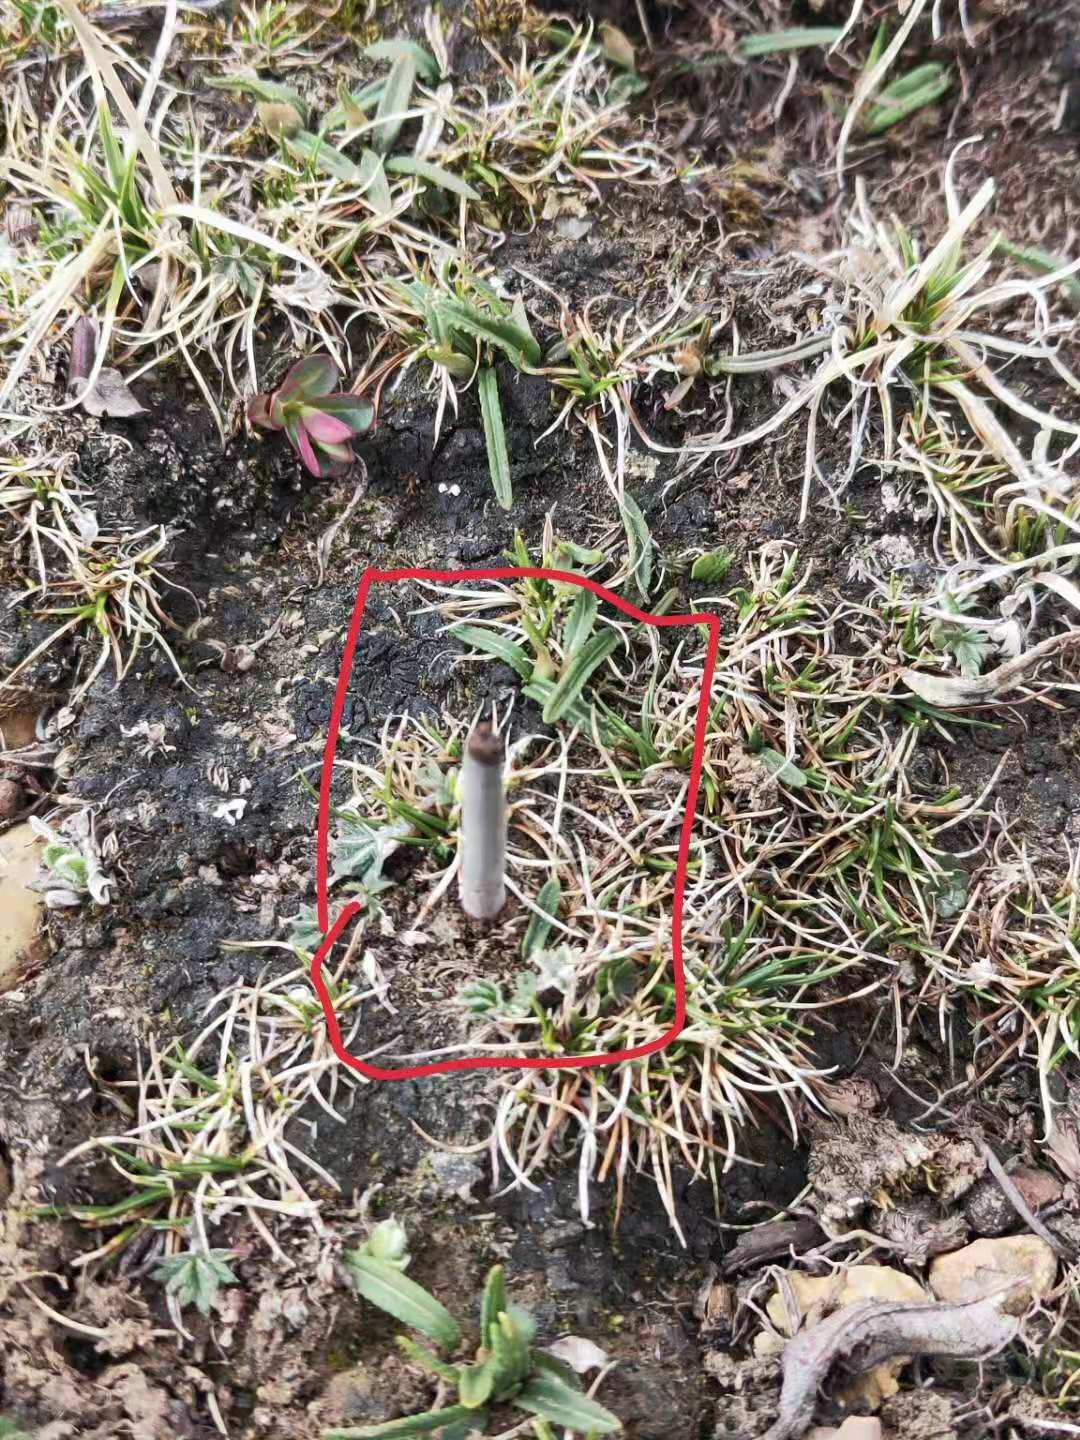cpf: (452, 725, 518, 923)
